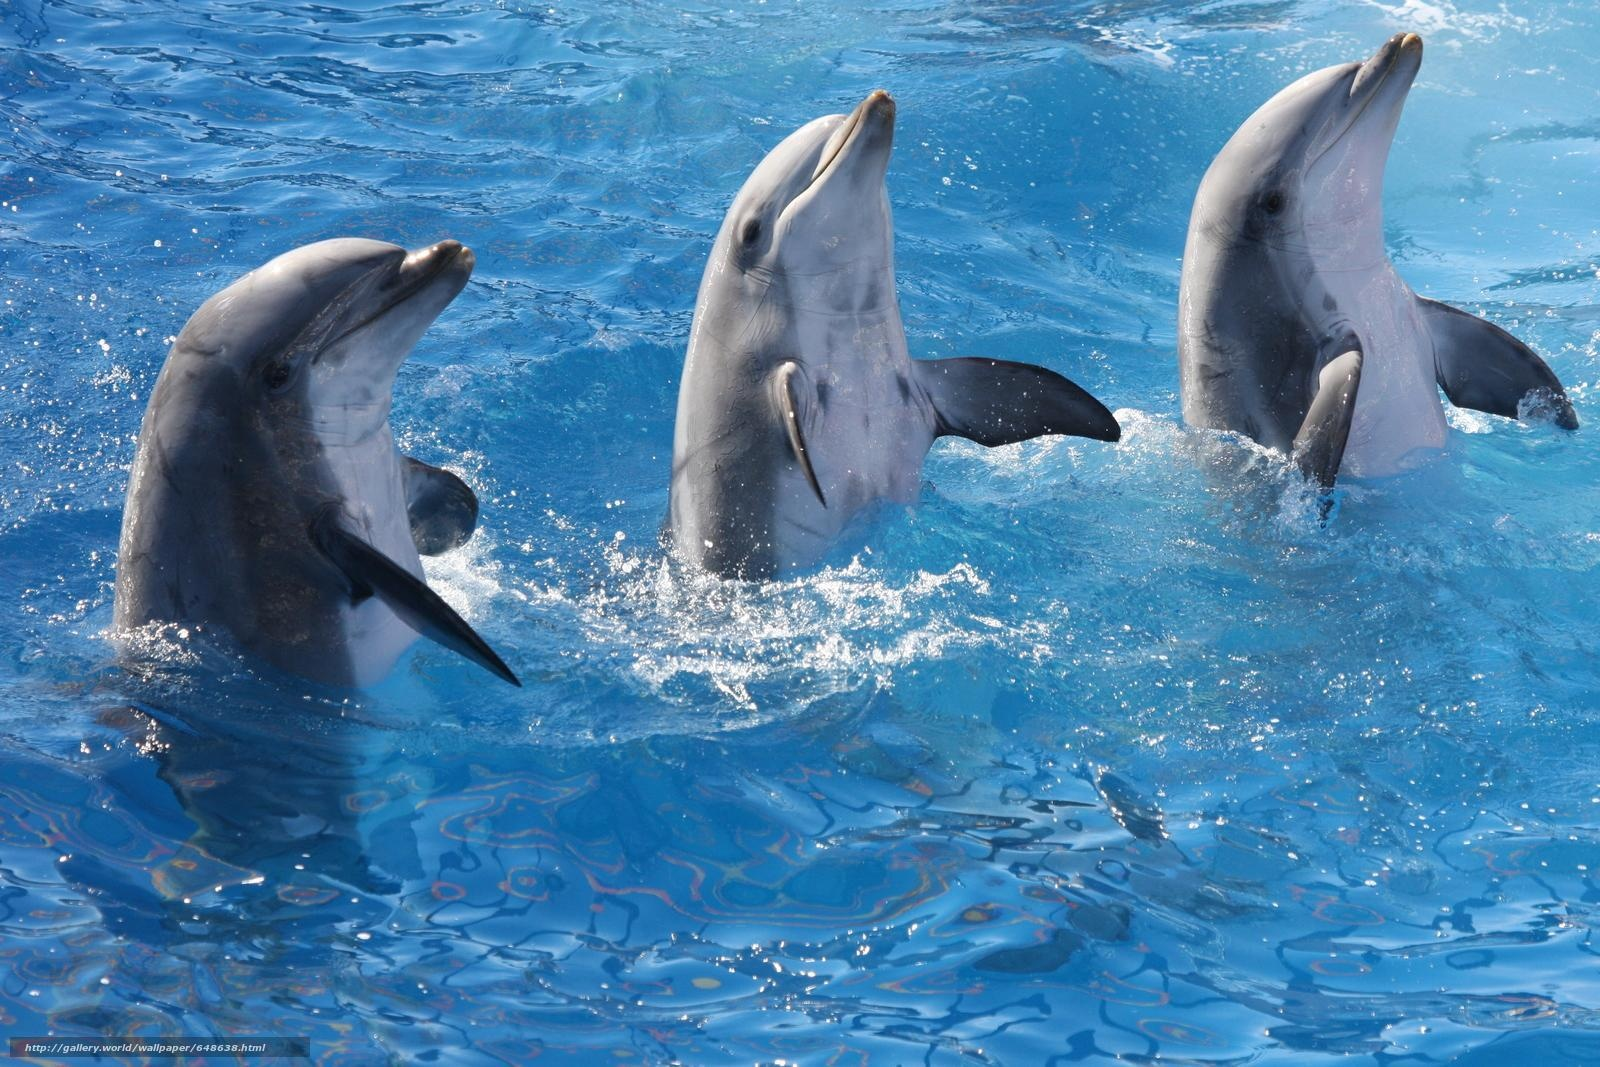fish: (654, 88, 1129, 605), (106, 236, 526, 723), (1179, 31, 1589, 529)
